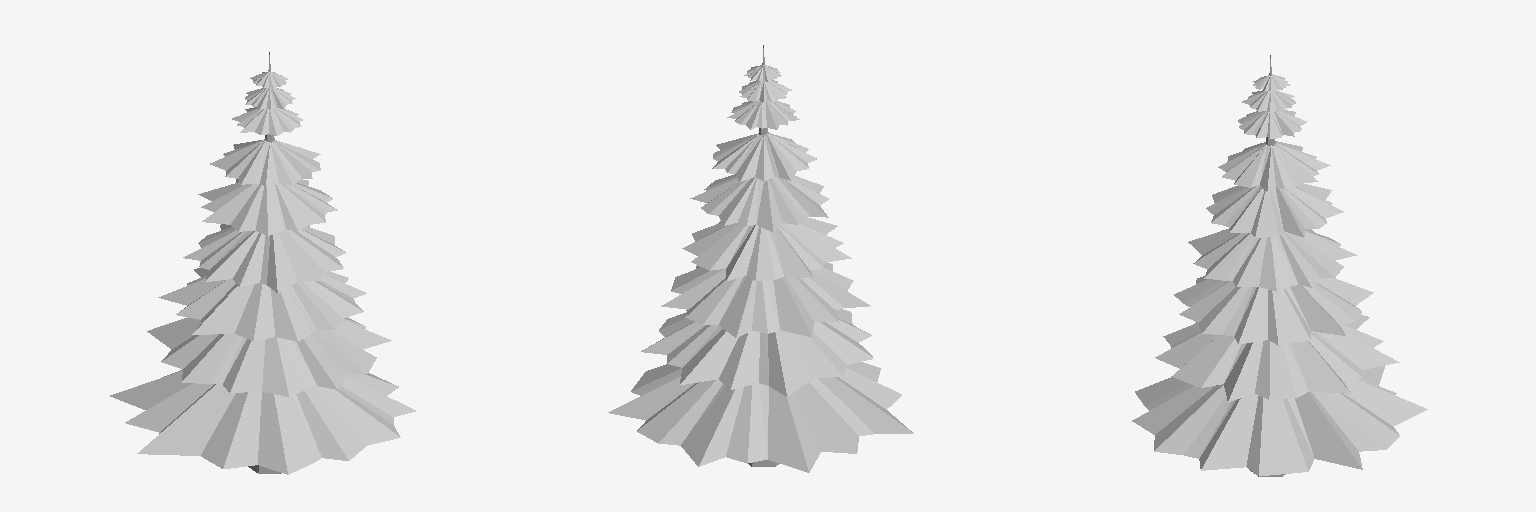
File: Fir.obj
3 views of the same model, side by side, from view 1: azimuth 30°, elevation 25°; view 2: azimuth 150°, elevation 25°; view 3: azimuth 270°, elevation 25° (orthographic).
Visible parts, largest first — view 1: Cone.019; view 2: Cone.019; view 3: Cone.019.
Part boxes in pixels (bbox=[...]): Cone.019: bbox=[110, 52, 415, 474]; Cone.019: bbox=[608, 45, 913, 472]; Cone.019: bbox=[1132, 55, 1427, 476].
Bounding box in the file's own units: 13.67 × 20.5 × 13.21.